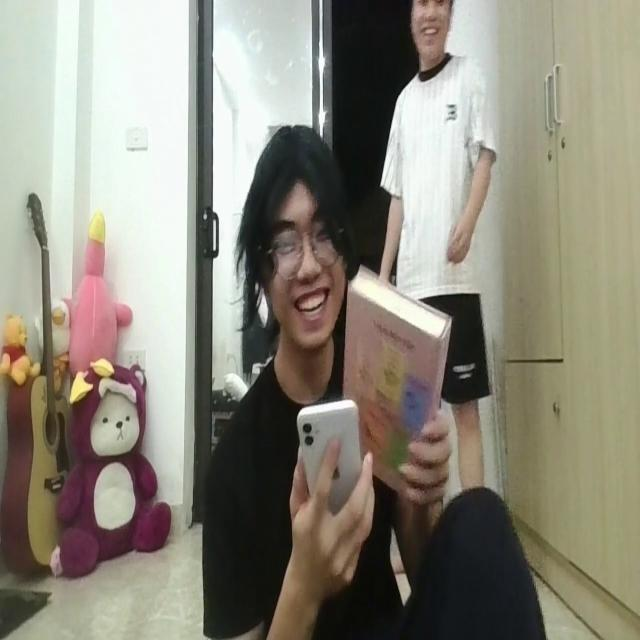book: (343, 264, 452, 502)
extra_person: (373, 0, 503, 426)
phone: (295, 392, 365, 534)
student: (194, 121, 545, 640)
